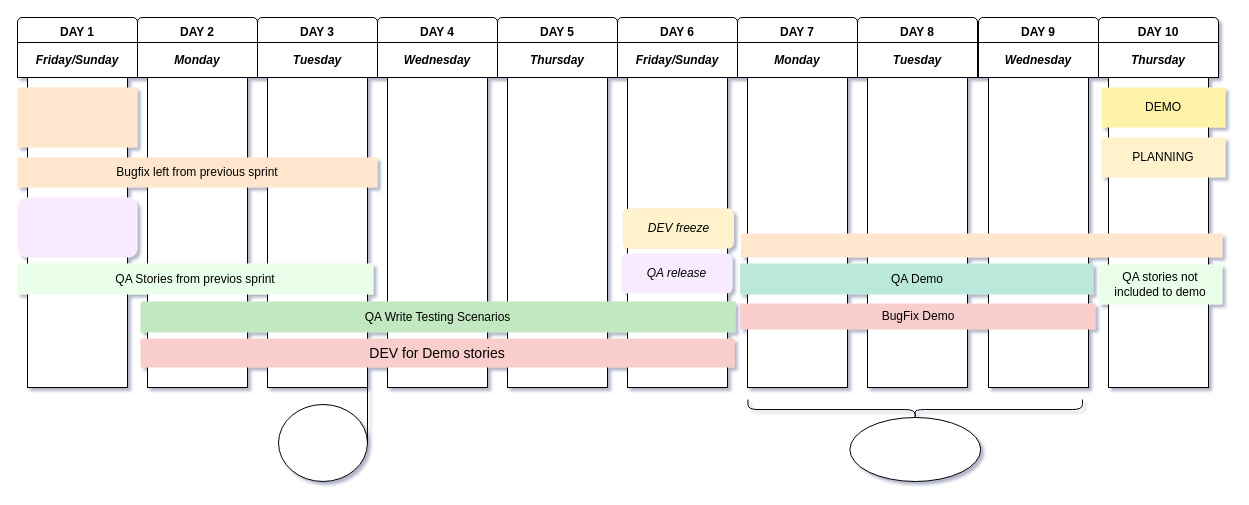
This 1249x505 diagram has some shape labels left out. Each missing label, with the centre of its shape:
"DEV for stories left from previos sprint" belongs at (x=77, y=117).
"Dev Stories not included to demo" belongs at (x=981, y=245).
"Estimate, split, assign tasks" belongs at (x=77, y=227).
"Left stories DONE" belongs at (x=323, y=443).
"Prepare DEMO and QA stable release" belongs at (x=915, y=449).
